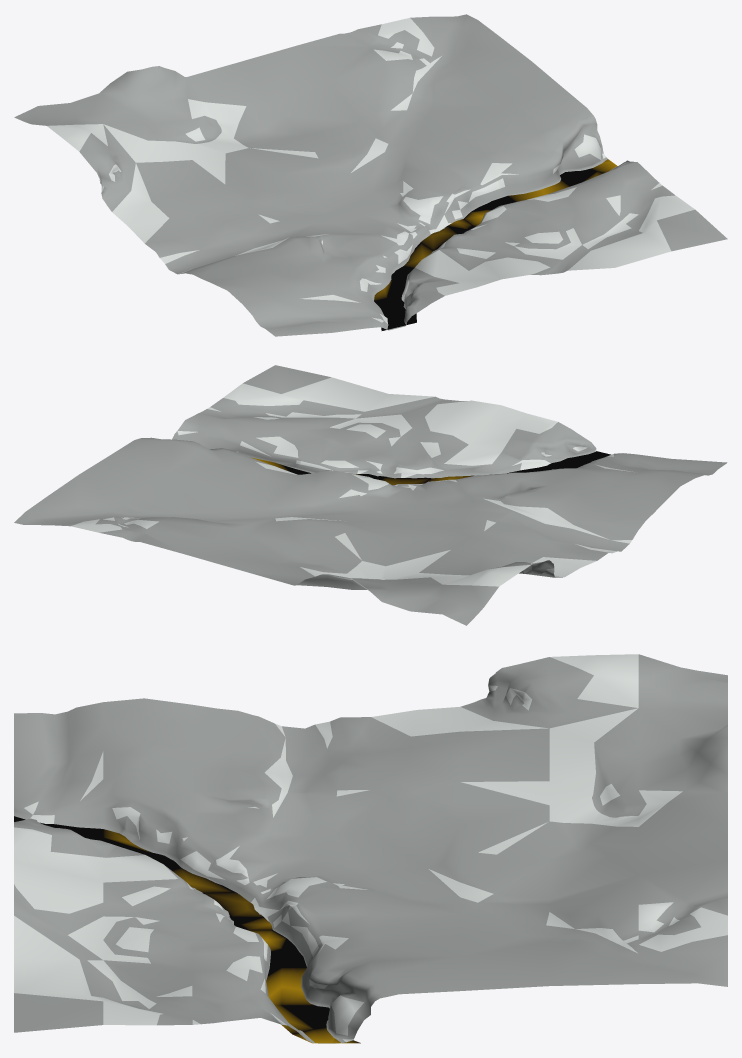
3 views of the same model, one above another, from view 1: azimuth 30°, elevation 25°; view 2: azimuth 150°, elevation 25°; view 3: azimuth 270°, elevation 25° (orthographic). The views are drawn at different scales.
Visible parts, largest first — view 1: G:\FFXIV-MapTools\exports\f1f3\bg\ffxiv\fst_f1\fld\f1f3\bgpl (×8); view 2: G:\FFXIV-MapTools\exports\f1f3\bg\ffxiv\fst_f1\fld\f1f3\bgpl (×9); view 3: G:\FFXIV-MapTools\exports\f1f3\bg\ffxiv\fst_f1\fld\f1f3\bgpl (×11).
Boxes of the visible parts, left/top/right/bottom form: G:\FFXIV-MapTools\exports\f1f3\bg\ffxiv\fst_f1\fld\f1f3\bgpl (×8): left=14, top=14, right=727, bottom=336; G:\FFXIV-MapTools\exports\f1f3\bg\ffxiv\fst_f1\fld\f1f3\bgpl (×9): left=14, top=365, right=727, bottom=625; G:\FFXIV-MapTools\exports\f1f3\bg\ffxiv\fst_f1\fld\f1f3\bgpl (×11): left=14, top=654, right=727, bottom=1043.
Bounding box in the file's own units: 128 × 18.28 × 128.
